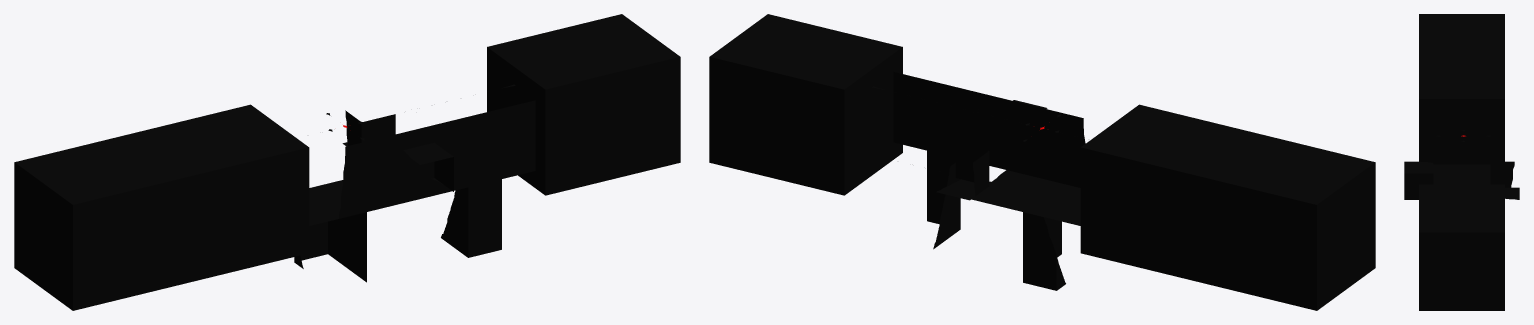
Rendered from lp_scope.obj.
3 views of the same model, side by side, from view 1: azimuth 30°, elevation 25°; view 2: azimuth 150°, elevation 25°; view 3: azimuth 270°, elevation 25° (orthographic). The views are drawn at different scales.
Visible parts, largest first — view 1: Shape2, Shape3, Shape1, Shape4, Shape5, Shape7, Shape8; view 2: Shape2, Shape3, Shape1, Shape5, Shape4, Shape8, Shape7; view 3: Shape2, Shape3, Shape1, Shape7, Shape8.
Boxes of the visible parts, x1=… form: Shape2: x1=14, y1=104, x2=309, y2=310; Shape3: x1=487, y1=14, x2=680, y2=195; Shape1: x1=309, y1=76, x2=535, y2=225; Shape4: x1=441, y1=179, x2=501, y2=257; Shape5: x1=294, y1=186, x2=366, y2=282; Shape7: x1=403, y1=142, x2=453, y2=191; Shape8: x1=342, y1=110, x2=395, y2=146; Shape2: x1=1080, y1=104, x2=1375, y2=310; Shape3: x1=709, y1=14, x2=902, y2=195; Shape1: x1=871, y1=72, x2=1085, y2=225; Shape5: x1=1023, y1=189, x2=1065, y2=290; Shape4: x1=927, y1=150, x2=960, y2=249; Shape8: x1=936, y1=143, x2=989, y2=200; Shape7: x1=994, y1=100, x2=1047, y2=155; Shape2: x1=1419, y1=14, x2=1504, y2=164; Shape3: x1=1419, y1=184, x2=1504, y2=310; Shape1: x1=1433, y1=130, x2=1490, y2=184; Shape7: x1=1404, y1=161, x2=1433, y2=199; Shape8: x1=1490, y1=161, x2=1519, y2=199.
Size of the model in its own units: 1.12 by 0.3125 by 0.25.
